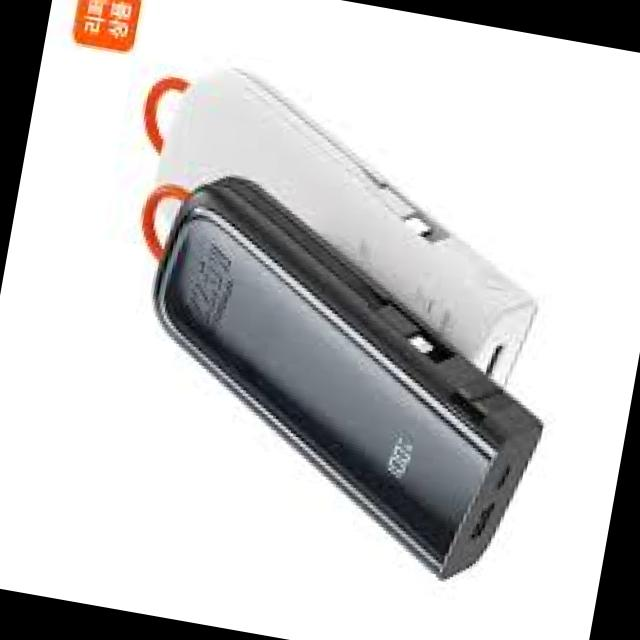power_bank: (110, 164, 582, 606), (132, 59, 572, 386)
